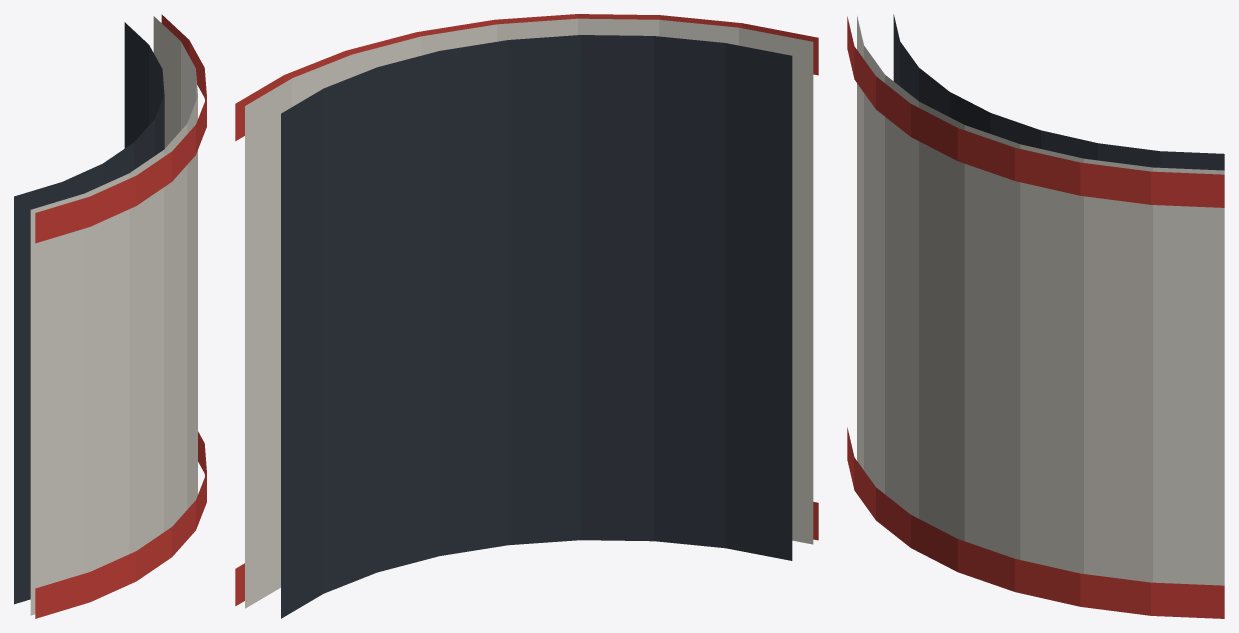
File: robot_armor_curved.glb
3 renders of one model, left to right at view 1: azimuth 30°, elevation 25°; view 2: azimuth 150°, elevation 25°; view 3: azimuth 270°, elevation 25°, orthographic. The views are drawn at different scales.
Visible parts, largest first — view 1: robot_armor_curved_armor, robot_armor_curved_steelDark, robot_armor_curved_red; view 2: robot_armor_curved_steelDark, robot_armor_curved_armor, robot_armor_curved_red; view 3: robot_armor_curved_armor, robot_armor_curved_red, robot_armor_curved_steelDark.
Boxes of the visible parts, x1=… form: robot_armor_curved_armor: x1=30, y1=16, x2=197, y2=615; robot_armor_curved_steelDark: x1=14, y1=22, x2=164, y2=604; robot_armor_curved_red: x1=35, y1=14, x2=206, y2=618; robot_armor_curved_steelDark: x1=281, y1=35, x2=792, y2=618; robot_armor_curved_armor: x1=245, y1=18, x2=813, y2=608; robot_armor_curved_red: x1=235, y1=14, x2=818, y2=606; robot_armor_curved_armor: x1=857, y1=16, x2=1224, y2=585; robot_armor_curved_red: x1=847, y1=16, x2=1224, y2=618; robot_armor_curved_steelDark: x1=893, y1=14, x2=1224, y2=170.
Bounding box in the file's own units: 3.08 × 4.02 × 3.08.
